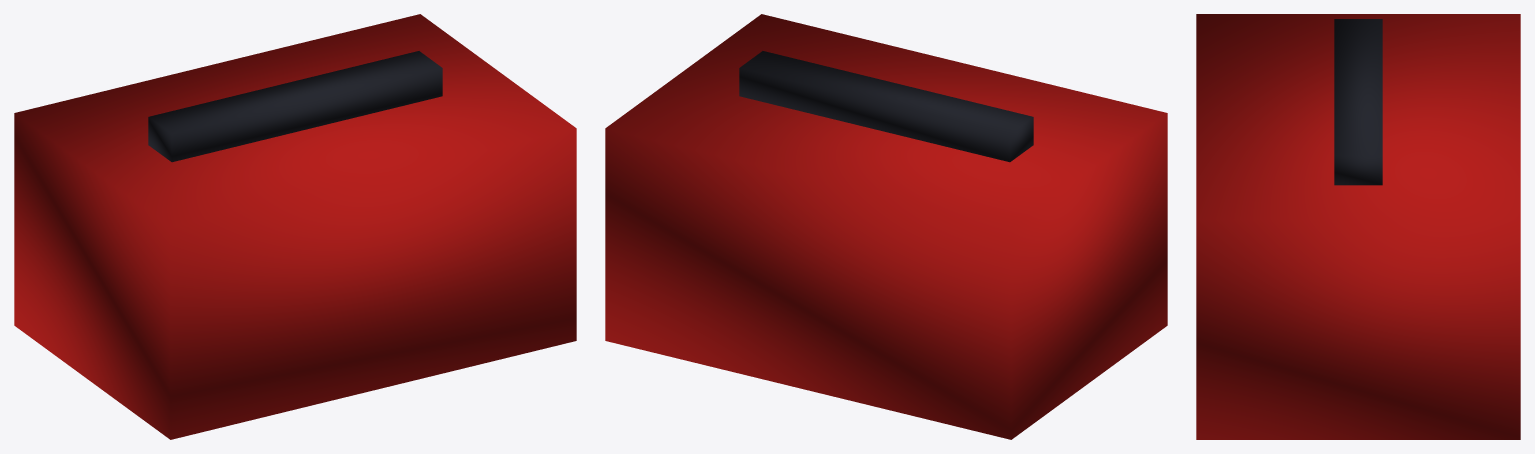
3 renders of one model, left to right at view 1: azimuth 30°, elevation 25°; view 2: azimuth 150°, elevation 25°; view 3: azimuth 270°, elevation 25°, orthographic. The views are drawn at different scales.
Parts seen in each view (by area): view 1: Detachable_W075_Body__PSMAT__Plastic_Red, Jumper_Ridge__PSMAT__Connector_Black; view 2: Detachable_W075_Body__PSMAT__Plastic_Red, Jumper_Ridge__PSMAT__Connector_Black; view 3: Detachable_W075_Body__PSMAT__Plastic_Red, Jumper_Ridge__PSMAT__Connector_Black.
Boxes of the visible parts, left/top/right/bottom form: Detachable_W075_Body__PSMAT__Plastic_Red: left=14, top=14, right=576, bottom=439; Jumper_Ridge__PSMAT__Connector_Black: left=148, top=51, right=442, bottom=162; Detachable_W075_Body__PSMAT__Plastic_Red: left=605, top=14, right=1167, bottom=439; Jumper_Ridge__PSMAT__Connector_Black: left=739, top=51, right=1033, bottom=162; Detachable_W075_Body__PSMAT__Plastic_Red: left=1196, top=14, right=1520, bottom=439; Jumper_Ridge__PSMAT__Connector_Black: left=1334, top=19, right=1382, bottom=185.
Size of the model in its own units: 0.006 by 0.0035 by 0.004.
3 materials, 3 textured.
